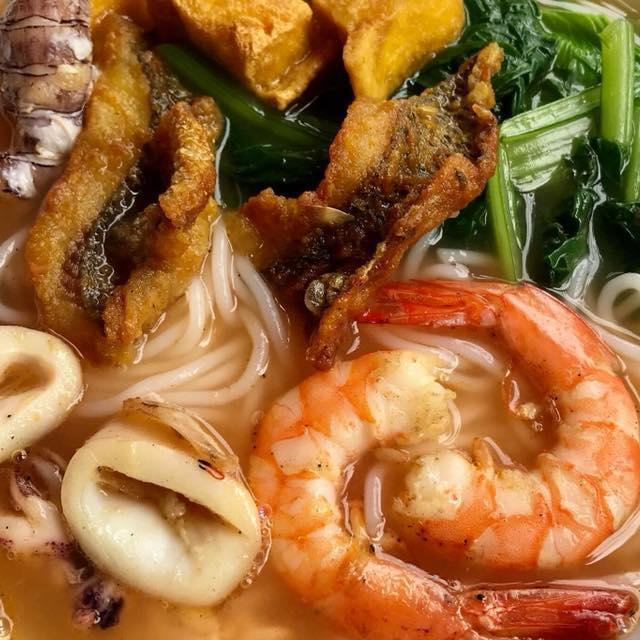bun: (56, 218, 306, 448), (363, 318, 552, 474), (564, 260, 640, 593)
bun hai san: (0, 0, 640, 640)
ca: (230, 32, 515, 375), (17, 1, 232, 379)
dau hu: (126, 0, 345, 115), (300, 0, 477, 118)
muc: (48, 386, 268, 618), (0, 451, 138, 638), (0, 301, 92, 488)
tom: (239, 344, 640, 640), (356, 268, 640, 582)
tom tit: (0, 0, 110, 218)
